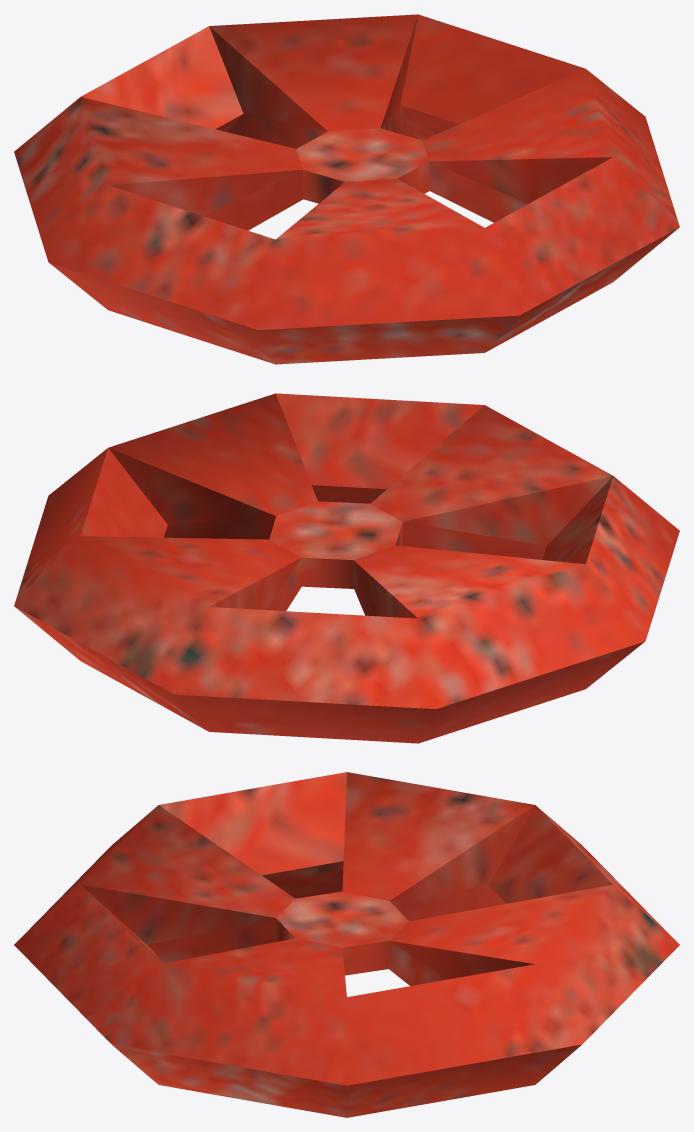
File: Valve_FBX.fbx
3 renders of one model, top to bottom at view 1: azimuth 30°, elevation 25°; view 2: azimuth 150°, elevation 25°; view 3: azimuth 270°, elevation 25°, orthographic. The views are drawn at different scales.
Parts seen in each view (by area): view 1: Torus; view 2: Torus; view 3: Torus.
Part boxes in pixels (x1,y1,x2,y2): Torus: (14, 14, 679, 364); Torus: (14, 393, 679, 743); Torus: (14, 772, 679, 1117).
Bounding box in the file's own units: 100 × 20 × 100.
